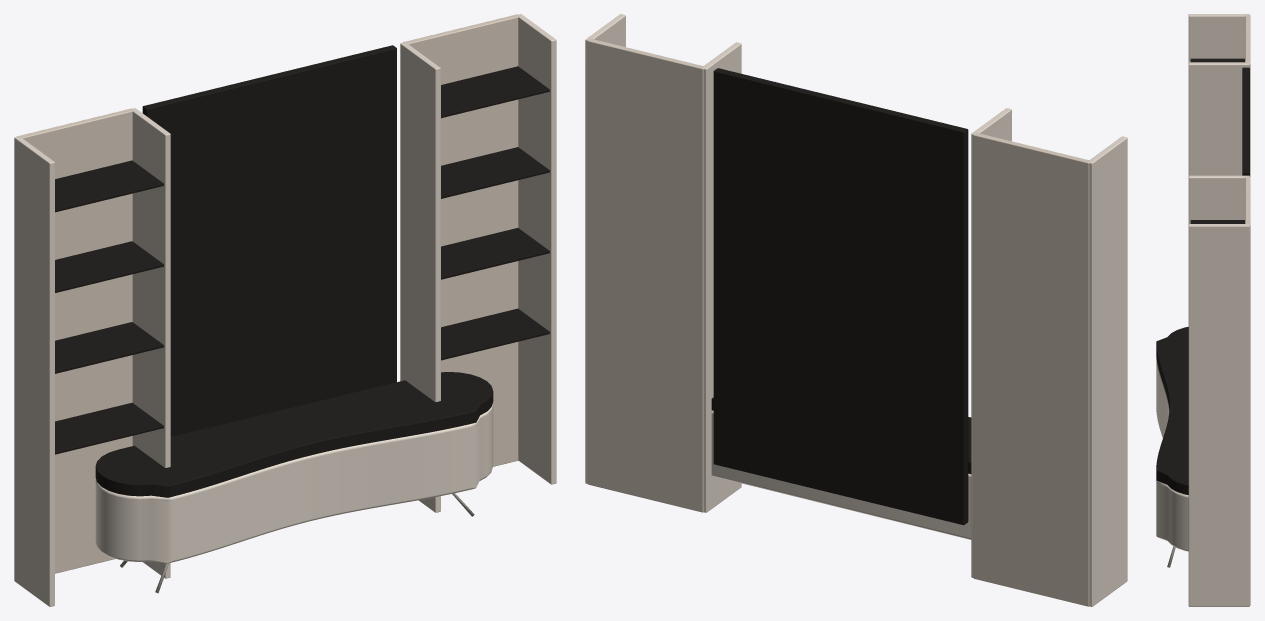
The model's file is glory-tv-stand.glb.
The picture shows the model from 3 angles, left to right: view 1: azimuth 30°, elevation 25°; view 2: azimuth 150°, elevation 25°; view 3: azimuth 270°, elevation 25°; orthographic projection. The views are drawn at different scales.
Visible parts, largest first — view 1: tvpanel, body, tower-1, tower1, band, towerside-1-1, towerside11, towerside1-1, towerside-11, gshelf-11.15, gshelf-10.75, gshelf-11.55 (+5 smaller); view 2: tvpanel, tower-1, tower1, towerside-1-1, towerside1-1, body, towerside-11, towerside11; view 3: towerside11, towerside-11, band, towerside1-1, towerside-1-1, body, tvpanel, tower1, tower-1, gshelf-11.95, gshelf11.95.
Boxes of the visible parts, left/top/right/bottom form: tvpanel: left=142, top=45, right=396, bottom=436; body: left=95, top=404, right=493, bottom=563; tower-1: left=17, top=108, right=133, bottom=573; tower1: left=403, top=14, right=519, bottom=466; band: left=95, top=372, right=493, bottom=497; towerside-1-1: left=14, top=136, right=54, bottom=606; towerside11: left=518, top=14, right=556, bottom=484; towerside1-1: left=400, top=42, right=440, bottom=512; towerside-11: left=131, top=108, right=170, bottom=578; gshelf-11.15: left=55, top=322, right=163, bottom=373; gshelf-10.75: left=55, top=402, right=163, bottom=454; gshelf-11.55: left=55, top=241, right=163, bottom=292; tvpanel: left=713, top=68, right=968, bottom=525; tower-1: left=973, top=133, right=1090, bottom=606; tower1: left=587, top=39, right=704, bottom=512; towerside-1-1: left=1089, top=136, right=1127, bottom=606; towerside1-1: left=702, top=42, right=741, bottom=512; body: left=711, top=410, right=971, bottom=539; towerside-11: left=971, top=108, right=1011, bottom=577; towerside11: left=585, top=14, right=625, bottom=483; towerside11: left=1188, top=224, right=1249, bottom=606; towerside-11: left=1188, top=62, right=1249, bottom=175; band: left=1156, top=327, right=1188, bottom=494; towerside1-1: left=1188, top=175, right=1249, bottom=223; towerside-1-1: left=1188, top=14, right=1249, bottom=62; body: left=1156, top=357, right=1188, bottom=551; tvpanel: left=1242, top=67, right=1249, bottom=175; tower1: left=1245, top=176, right=1250, bottom=605; tower-1: left=1245, top=15, right=1250, bottom=176; gshelf-11.95: left=1190, top=58, right=1244, bottom=62; gshelf11.95: left=1190, top=220, right=1244, bottom=223.
Bounding box in the file's own units: 2.63 × 2.2 × 0.495.
Materials: 5 (1 with a texture image).
